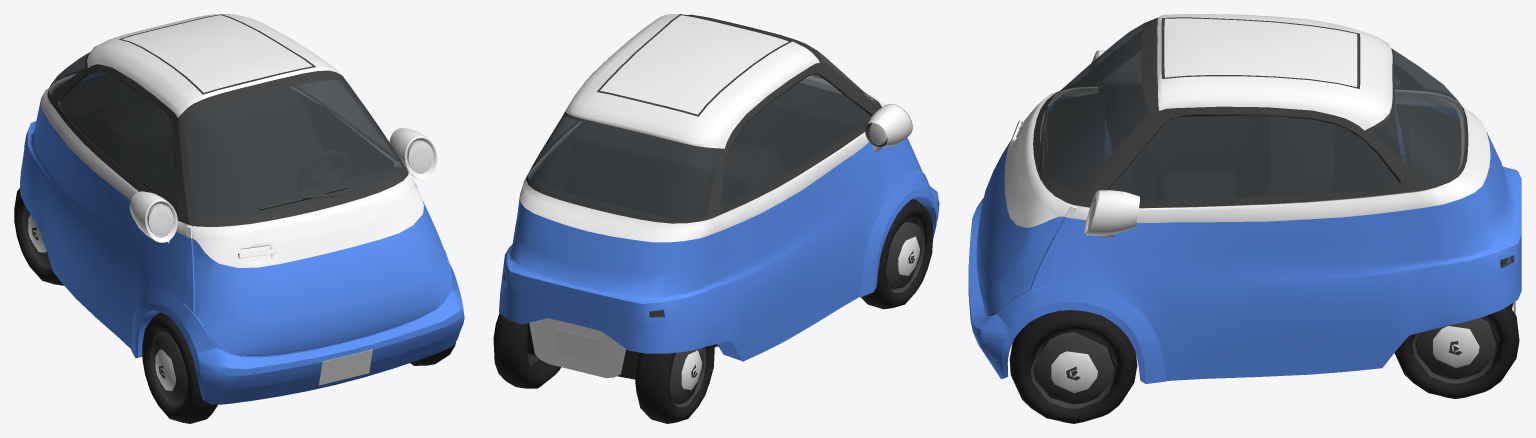
The picture shows the model from 3 angles, left to right: view 1: azimuth 30°, elevation 25°; view 2: azimuth 150°, elevation 25°; view 3: azimuth 270°, elevation 25°; orthographic projection. The views are drawn at different scales.
Parts seen in each view (by area): view 1: body, glass, wheel_FL, wheel_RL; view 2: body, glass, wheel_RL, wheel_FL, wheel_RR; view 3: body, glass, wheel_FR, wheel_RR.
Part boxes in pixels (x1,y1,x2,y2): body: (20, 14, 464, 404); glass: (24, 52, 401, 217); wheel_FL: (142, 312, 219, 423); wheel_RL: (14, 188, 63, 285); body: (499, 14, 939, 379); glass: (503, 41, 875, 317); wheel_RL: (635, 344, 714, 423); wheel_FL: (861, 199, 933, 309); wheel_RR: (493, 313, 560, 388); body: (968, 14, 1521, 383); glass: (1040, 23, 1513, 268); wheel_FR: (1009, 310, 1137, 423); wheel_RR: (1394, 305, 1519, 398).
Size of the model in its own units: 1.48 by 1.37 by 2.21.
